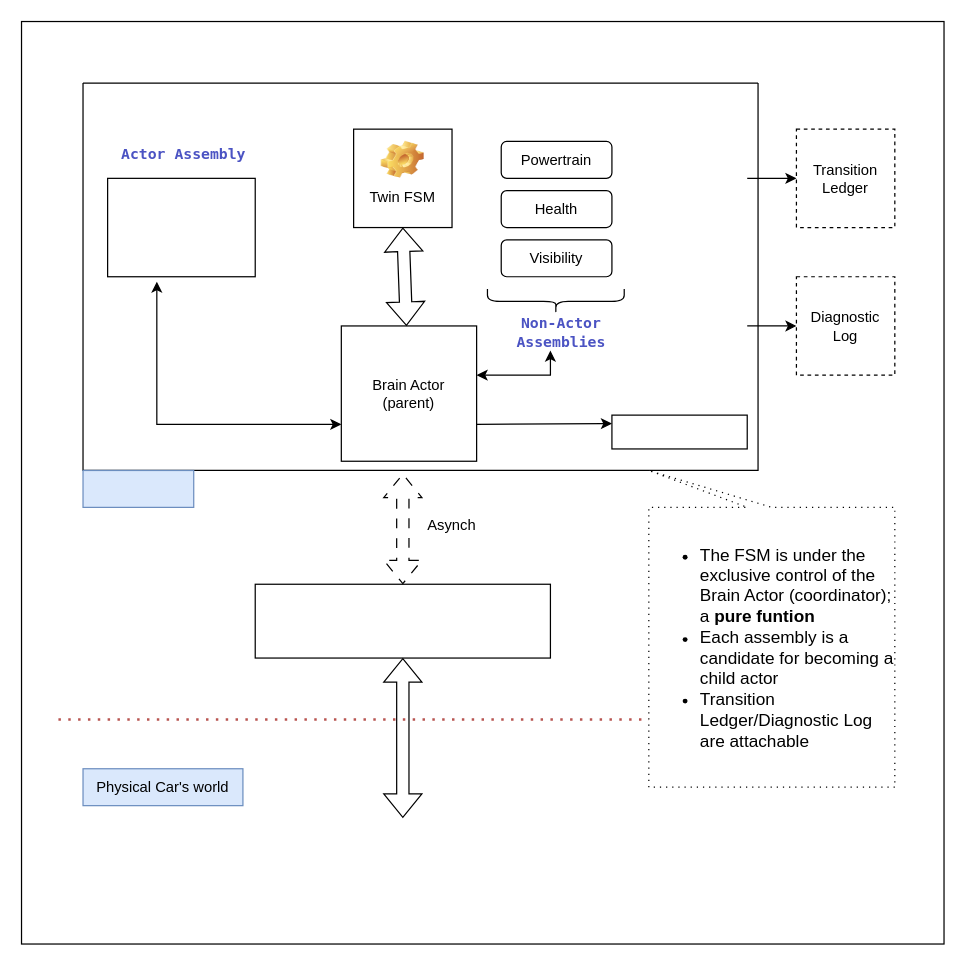
Image size: 966x966. Some labels were removed from this diagram. Each missing label, with the box of its shape:
Controller: (254, 583, 550, 658)
Digital Twin: (82, 469, 194, 507)
Headlamp Actor (child): (106, 177, 255, 277)
Headlamp Actuator: (611, 414, 747, 449)
